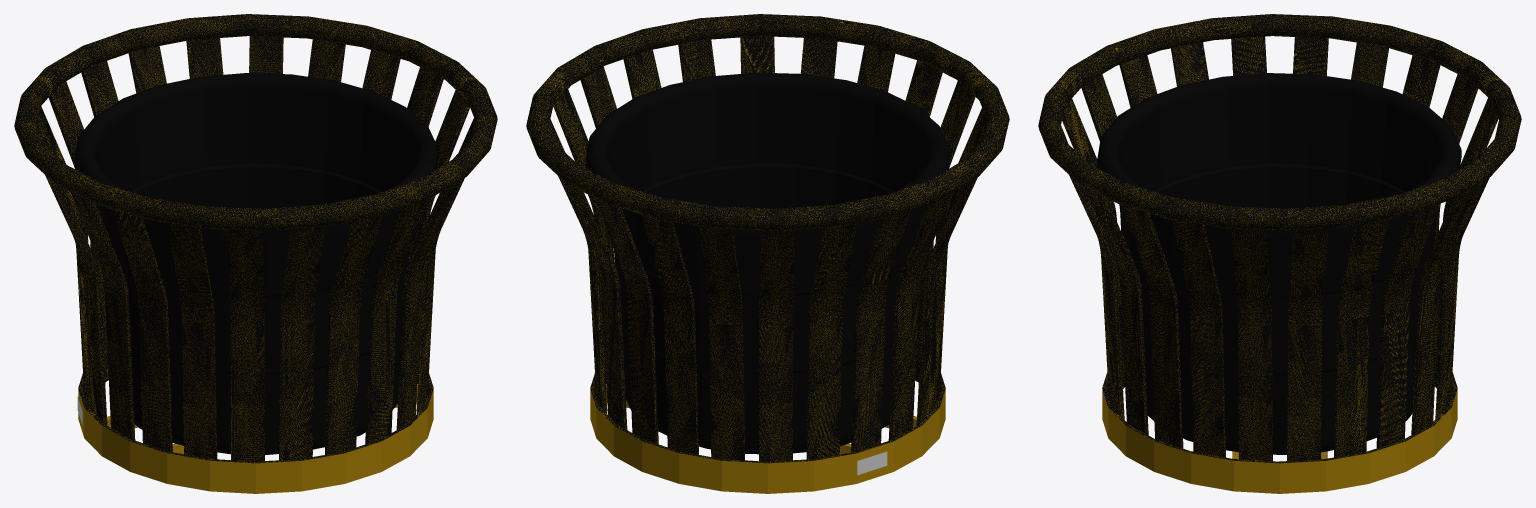
The picture shows the model from 3 angles, left to right: view 1: azimuth 30°, elevation 25°; view 2: azimuth 150°, elevation 25°; view 3: azimuth 270°, elevation 25°; orthographic projection.
Visible parts, largest first — view 1: mesh1.001_mesh1-geometry, mesh7.001_mesh7-geometry, mesh14.001_mesh14-geometry, mesh18.001_mesh18-geometry, mesh6.001_mesh6-geometry, mesh24.001_mesh24-geometry, mesh27.001_mesh27-geometry, mesh26.001_mesh26-geometry, mesh29.001_mesh29-geometry, mesh25.001_mesh25-geometry, mesh28.001_mesh28-geometry, mesh13.001_mesh13-geometry (+12 smaller); view 2: mesh1.001_mesh1-geometry, mesh7.001_mesh7-geometry, mesh14.001_mesh14-geometry, mesh11.001_mesh11-geometry, mesh17.001_mesh17-geometry, mesh9.001_mesh9-geometry, mesh4.001_mesh4-geometry, mesh16.001_mesh16-geometry, mesh20.001_mesh20-geometry, mesh13.001_mesh13-geometry, mesh10.001_mesh10-geometry, mesh25.001_mesh25-geometry (+12 smaller); view 3: mesh1.001_mesh1-geometry, mesh7.001_mesh7-geometry, mesh14.001_mesh14-geometry, mesh22.001_mesh22-geometry, mesh12.001_mesh12-geometry, mesh23.001_mesh23-geometry, mesh15.001_mesh15-geometry, mesh21.001_mesh21-geometry, mesh5.001_mesh5-geometry, mesh28.001_mesh28-geometry, mesh10.001_mesh10-geometry, mesh20.001_mesh20-geometry (+13 smaller).
Boxes of the visible parts, x1,y1,x2,y2 form: mesh1.001_mesh1-geometry: (74,73,438,454); mesh7.001_mesh7-geometry: (14,14,497,230); mesh14.001_mesh14-geometry: (78,367,433,493); mesh18.001_mesh18-geometry: (228,229,264,461); mesh6.001_mesh6-geometry: (279,226,324,460); mesh24.001_mesh24-geometry: (166,223,217,459); mesh27.001_mesh27-geometry: (325,215,382,454); mesh26.001_mesh26-geometry: (112,209,172,452); mesh29.001_mesh29-geometry: (365,199,428,444); mesh25.001_mesh25-geometry: (70,192,135,440); mesh28.001_mesh28-geometry: (396,181,458,429); mesh13.001_mesh13-geometry: (47,177,107,425); mesh1.001_mesh1-geometry: (585,72,950,454); mesh7.001_mesh7-geometry: (526,14,1009,230); mesh14.001_mesh14-geometry: (590,367,945,493); mesh11.001_mesh11-geometry: (759,229,795,461); mesh17.001_mesh17-geometry: (698,226,744,460); mesh9.001_mesh9-geometry: (806,223,857,459); mesh4.001_mesh4-geometry: (641,214,698,454); mesh16.001_mesh16-geometry: (851,209,911,452); mesh20.001_mesh20-geometry: (595,198,658,444); mesh13.001_mesh13-geometry: (888,192,953,440); mesh10.001_mesh10-geometry: (565,183,627,429); mesh25.001_mesh25-geometry: (916,178,975,425); mesh1.001_mesh1-geometry: (1097,73,1461,454); mesh7.001_mesh7-geometry: (1038,14,1521,230); mesh14.001_mesh14-geometry: (1102,372,1457,493); mesh22.001_mesh22-geometry: (1231,228,1272,461); mesh12.001_mesh12-geometry: (1287,228,1328,460); mesh23.001_mesh23-geometry: (1334,219,1388,457); mesh15.001_mesh15-geometry: (1171,220,1225,457); mesh21.001_mesh21-geometry: (1376,204,1438,448); mesh5.001_mesh5-geometry: (1121,205,1183,448); mesh28.001_mesh28-geometry: (1085,187,1148,435); mesh10.001_mesh10-geometry: (1411,186,1475,434); mesh20.001_mesh20-geometry: (1435,177,1489,419).
Size of the model in its own units: 0.6338 by 0.4435 by 0.6338.
